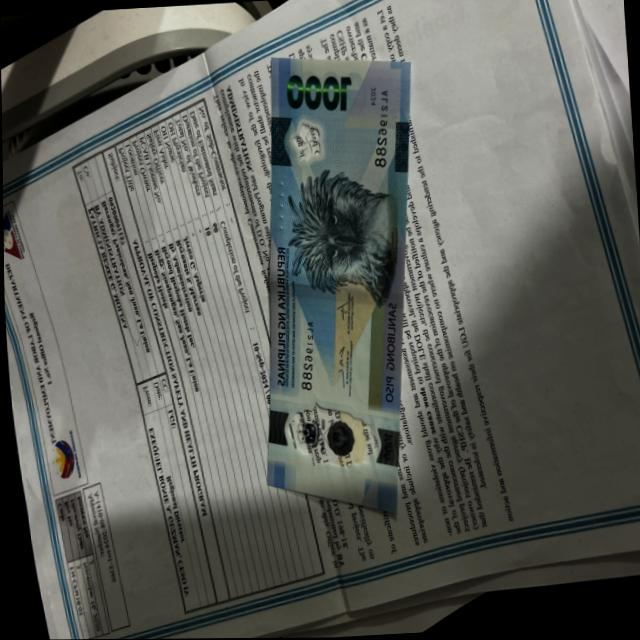clear_window: (279, 396, 381, 475)
eagle: (286, 169, 396, 301)
sampaguita: (288, 125, 327, 169)
serial_number: (290, 312, 324, 399), (365, 84, 395, 178)
